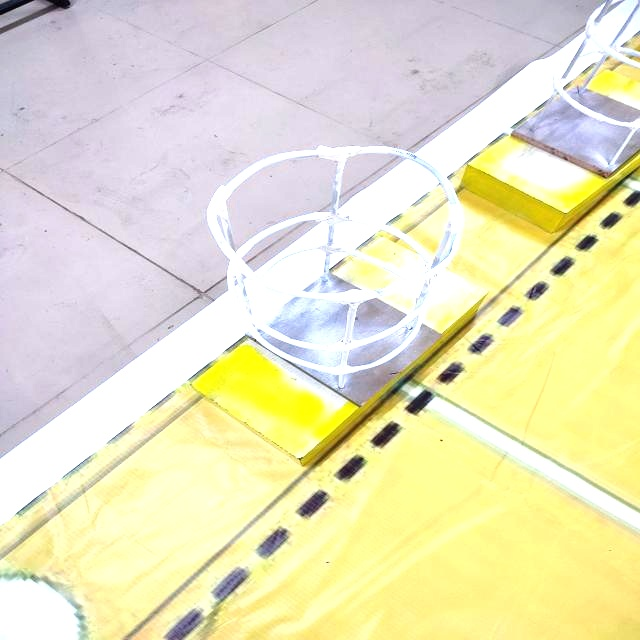silo: (191, 122, 491, 410)
